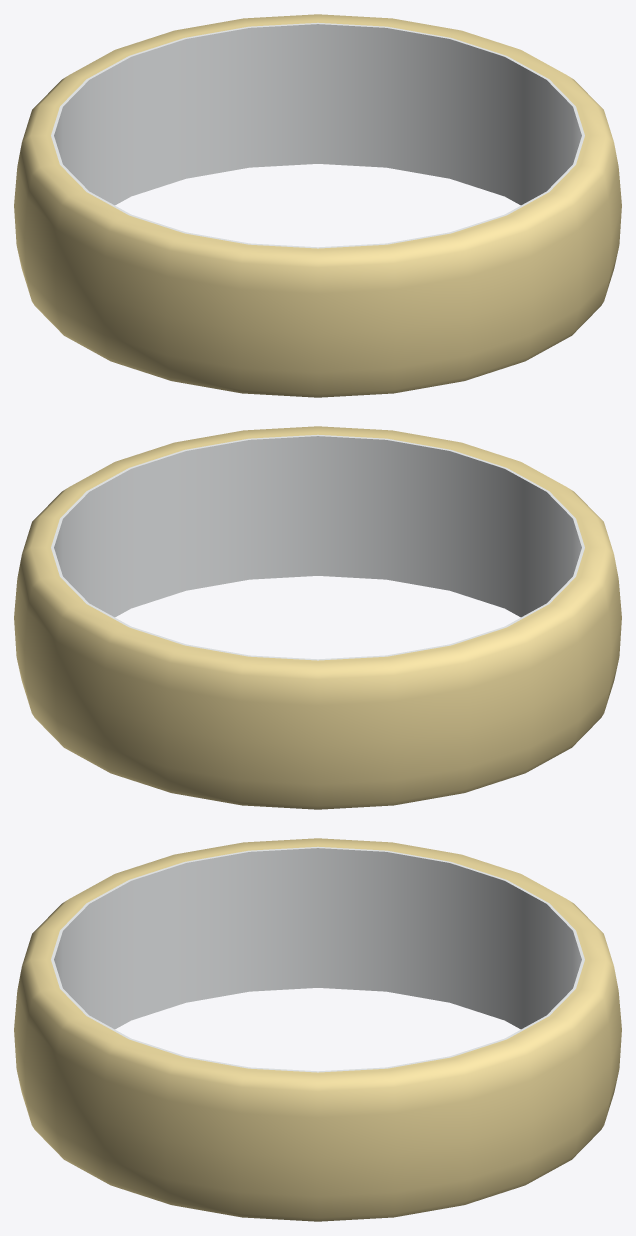
3 views of the same model, one above another, from view 1: azimuth 30°, elevation 25°; view 2: azimuth 150°, elevation 25°; view 3: azimuth 270°, elevation 25° (orthographic).
Parts seen in each view (by area): view 1: Gold, Silver; view 2: Gold, Silver; view 3: Gold, Silver.
Boxes of the visible parts, x1,y1,x2,y2 form: Gold: [14, 14, 621, 397]; Silver: [51, 22, 584, 248]; Gold: [14, 426, 621, 809]; Silver: [51, 434, 584, 660]; Gold: [14, 838, 621, 1221]; Silver: [51, 846, 584, 1072].
Bounding box in the file's own units: 1.58 × 0.4 × 1.58.
